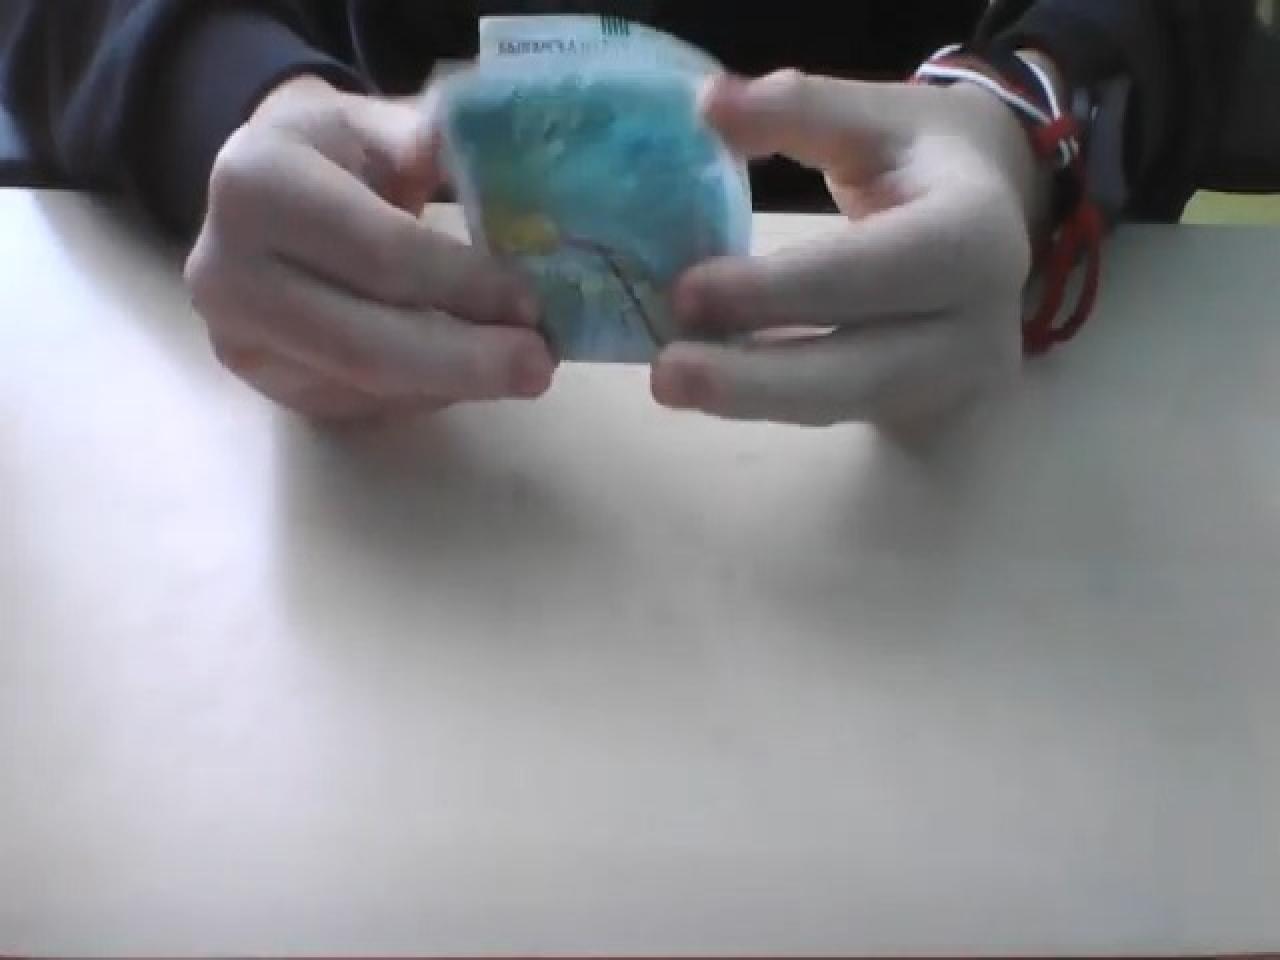100leva: (432, 13, 756, 368)
